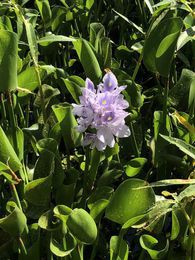water_hyacinth: (1, 20, 163, 260)
